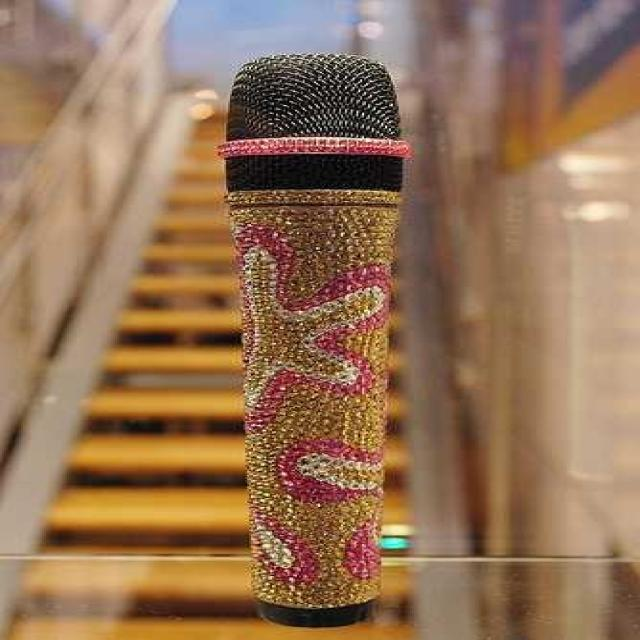microphone: (222, 53, 413, 623)
